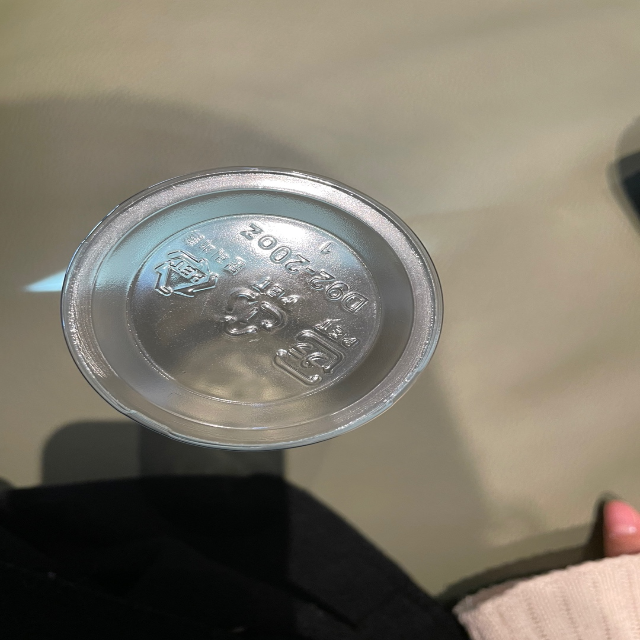pet: (146, 227, 246, 306), (272, 314, 362, 387), (219, 271, 300, 347)
